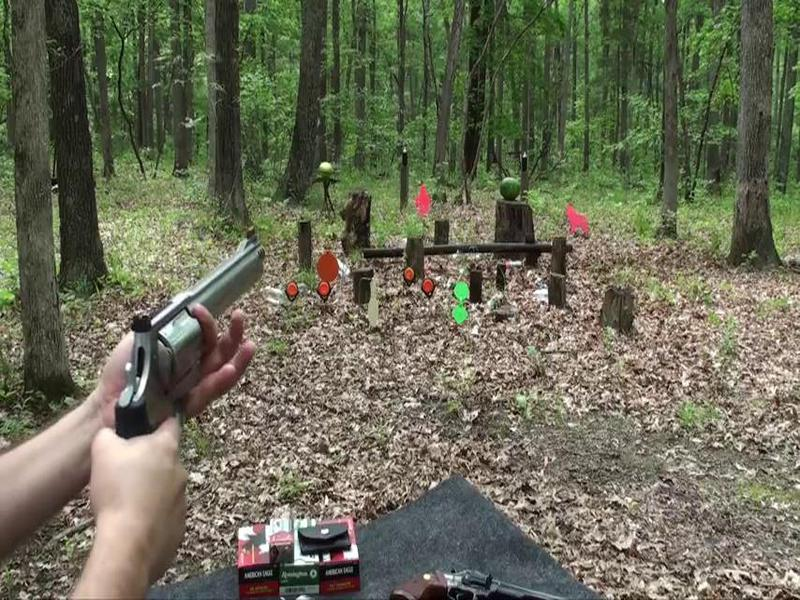Revolver: (117, 224, 273, 436)
